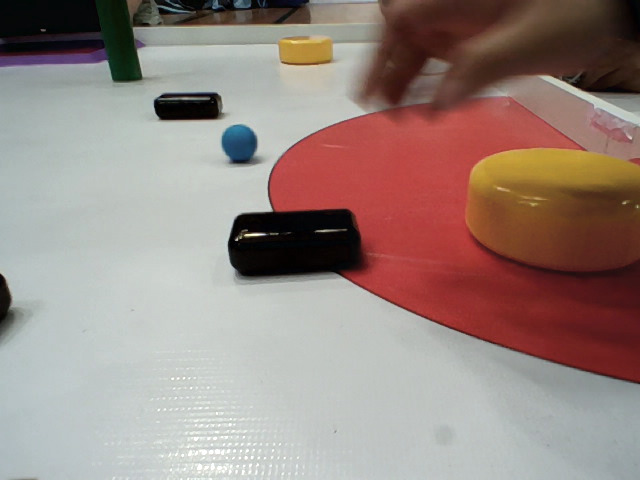black: (231, 210, 369, 278), (155, 91, 224, 120)
blue: (218, 125, 257, 161)
kuang: (1, 33, 154, 72)
yellow: (465, 142, 640, 269), (278, 34, 334, 66)
zhuzi: (94, 1, 144, 82)
